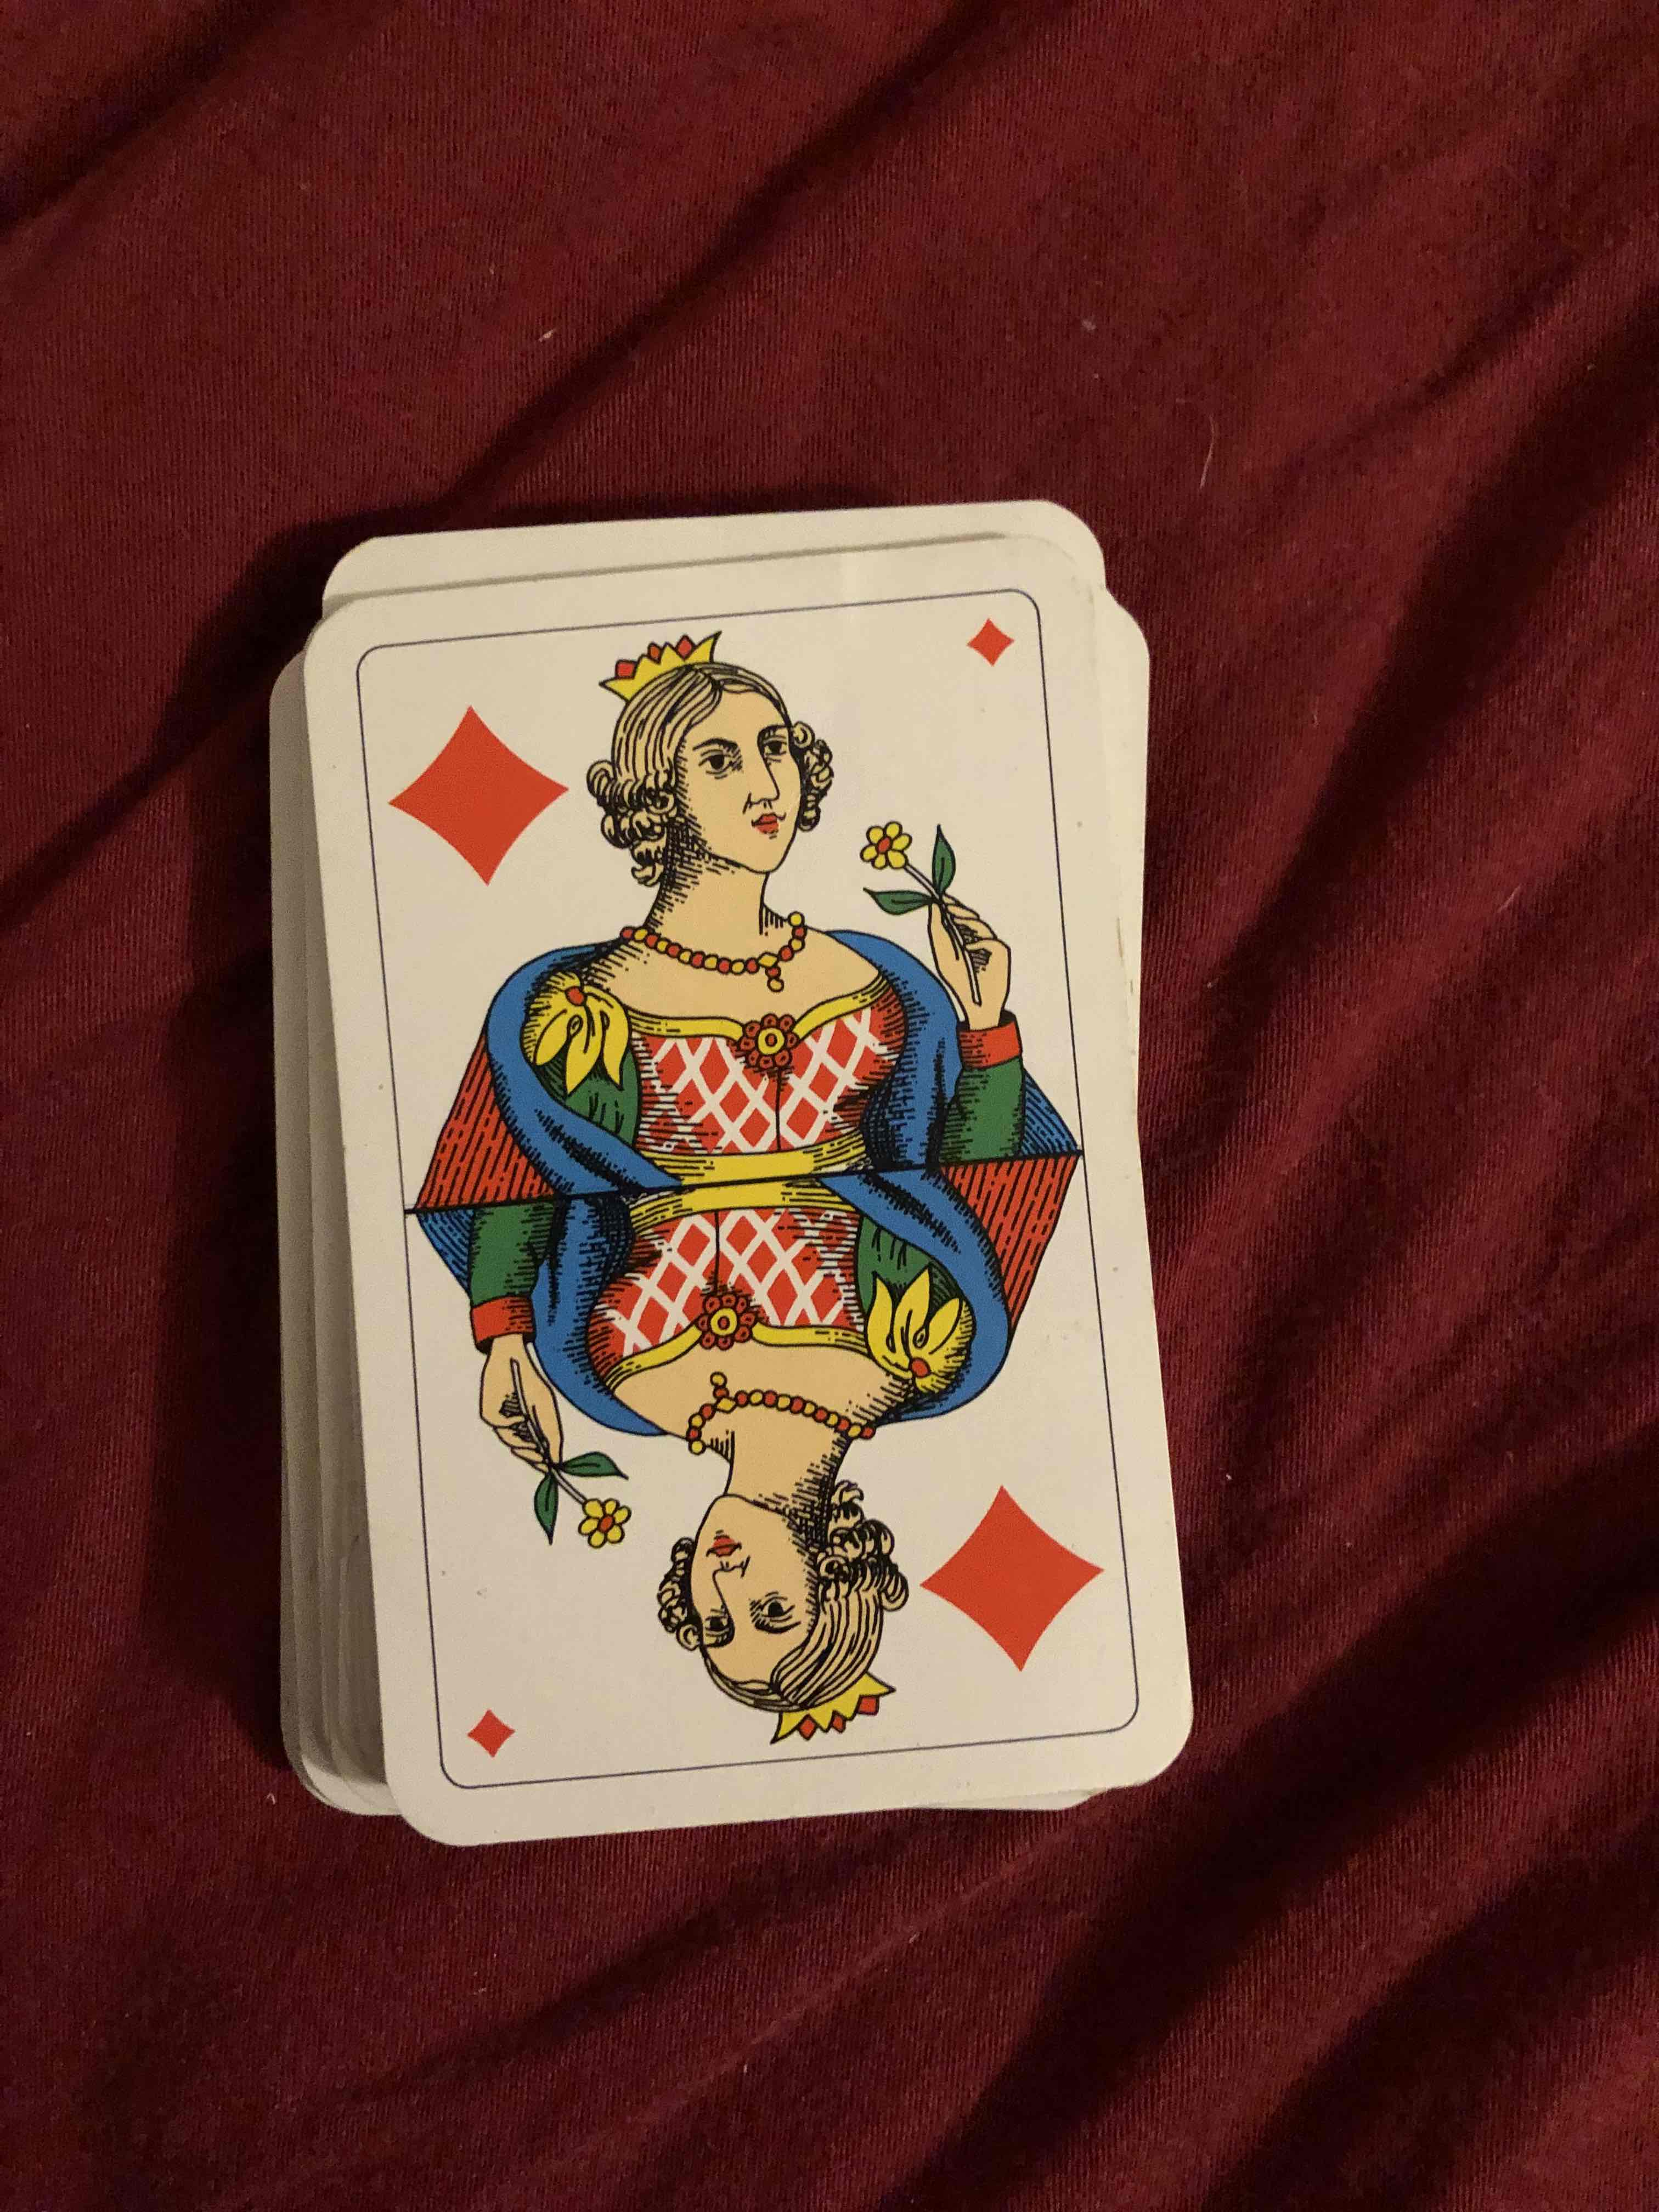diamondQueen: (328, 599, 1180, 1771)
